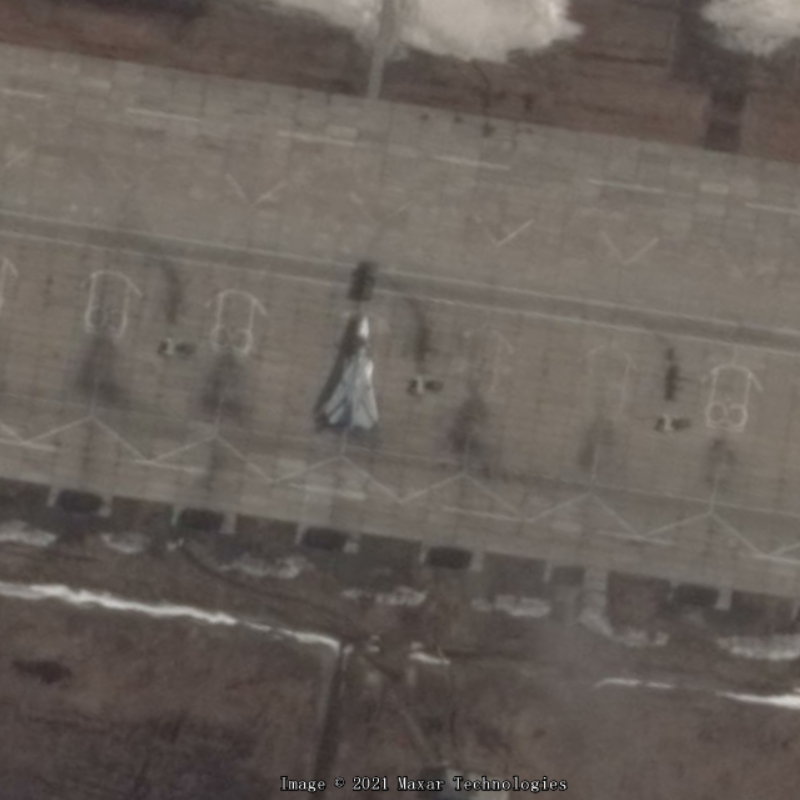A20: (320, 313, 383, 433)
